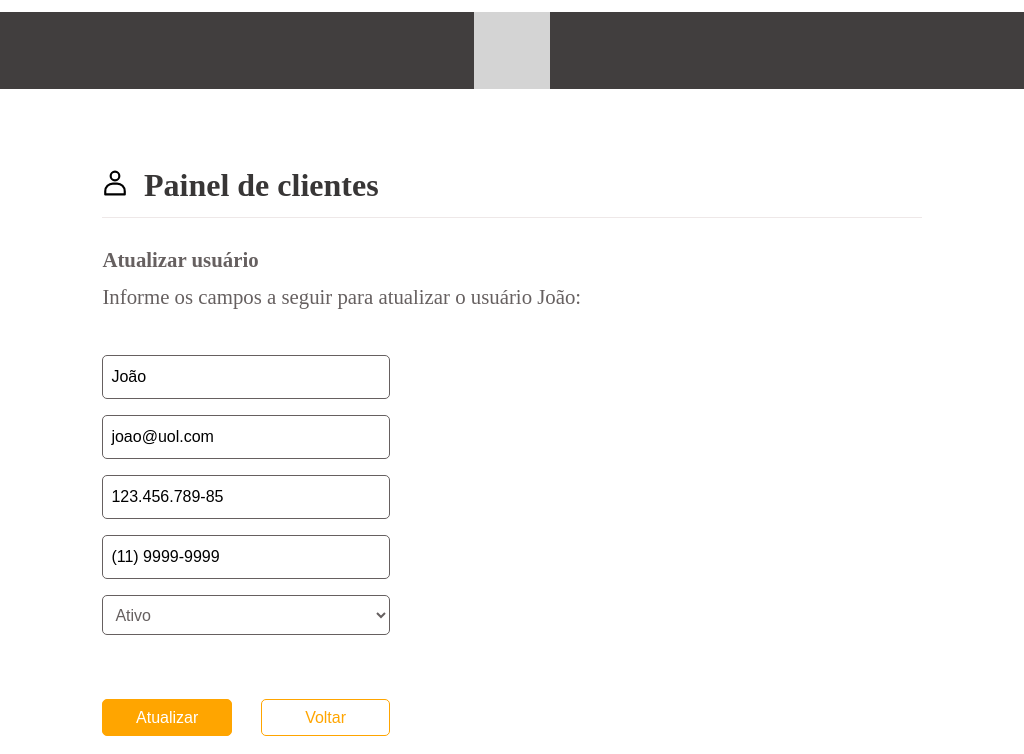
Test: Testando a página de editar usuário › Testa se a mensagem de erro de outro usuário já cadastrado com email aparece corretamente
The width and height of the screenshot is (1024, 754).
Clear the field with test id "email": (246, 437) [102,415,390,459]
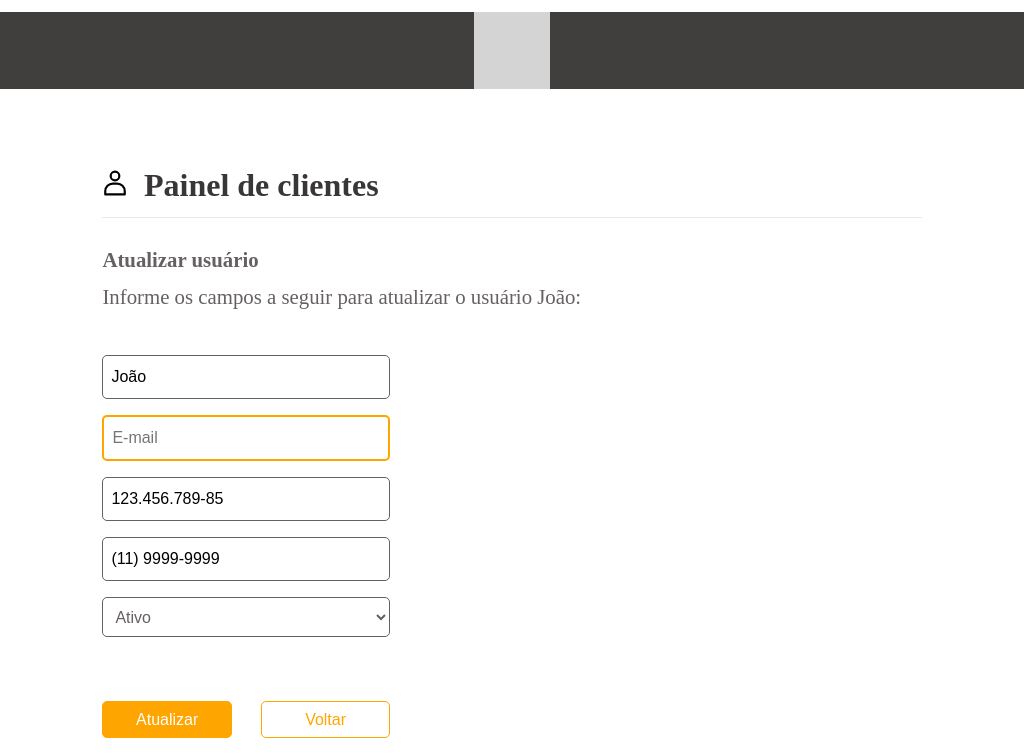
In the field with test id "email": (246, 438) [102,415,390,461], type "maria@uol.com"
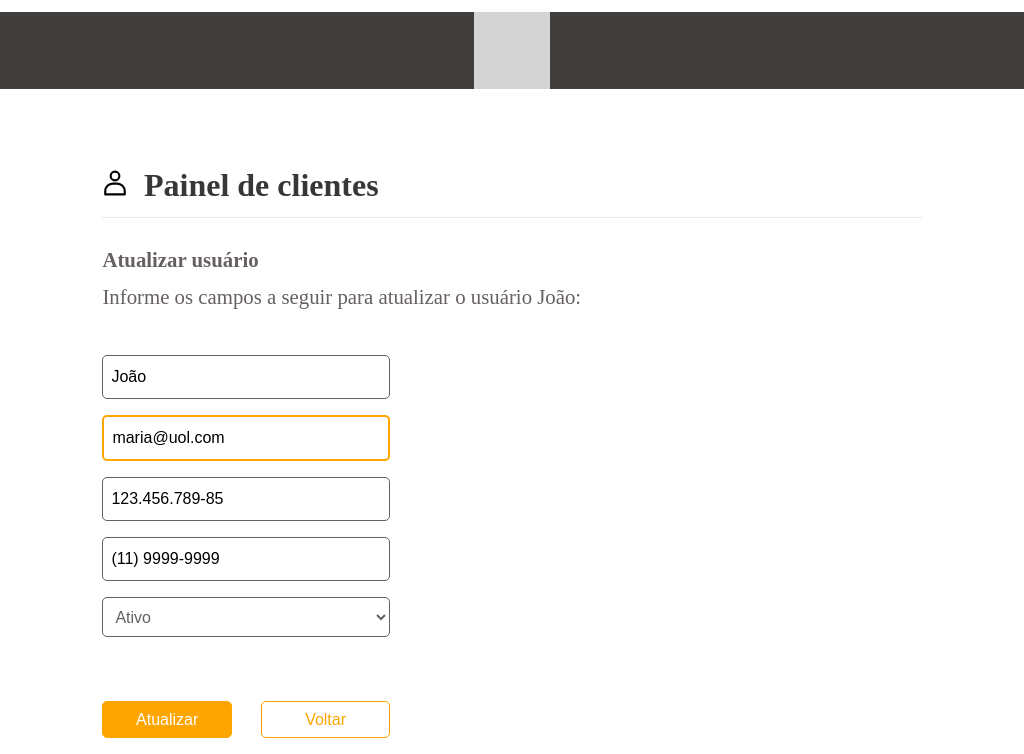
Click the button "Atualizar": (167, 720) [102,701,232,738]
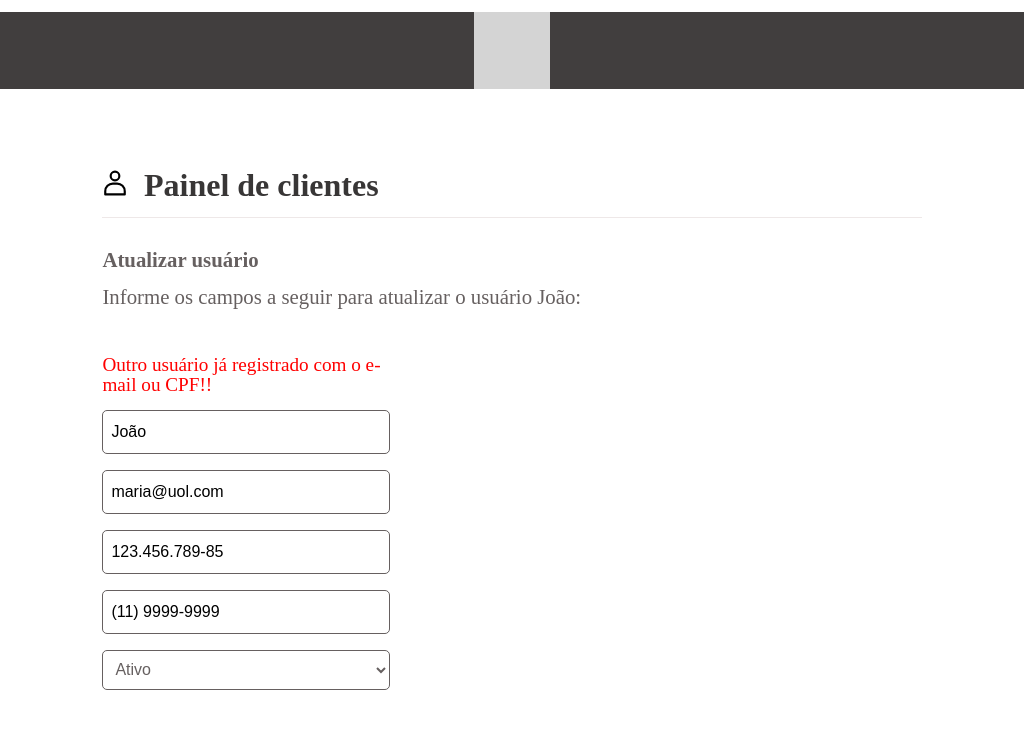
expect the heading "Outro usuário já registrado com o e-mail ou CPF!!" is shown: met, box [102,355,390,394]
